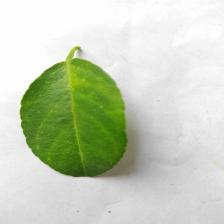greening: (16, 41, 134, 179)
